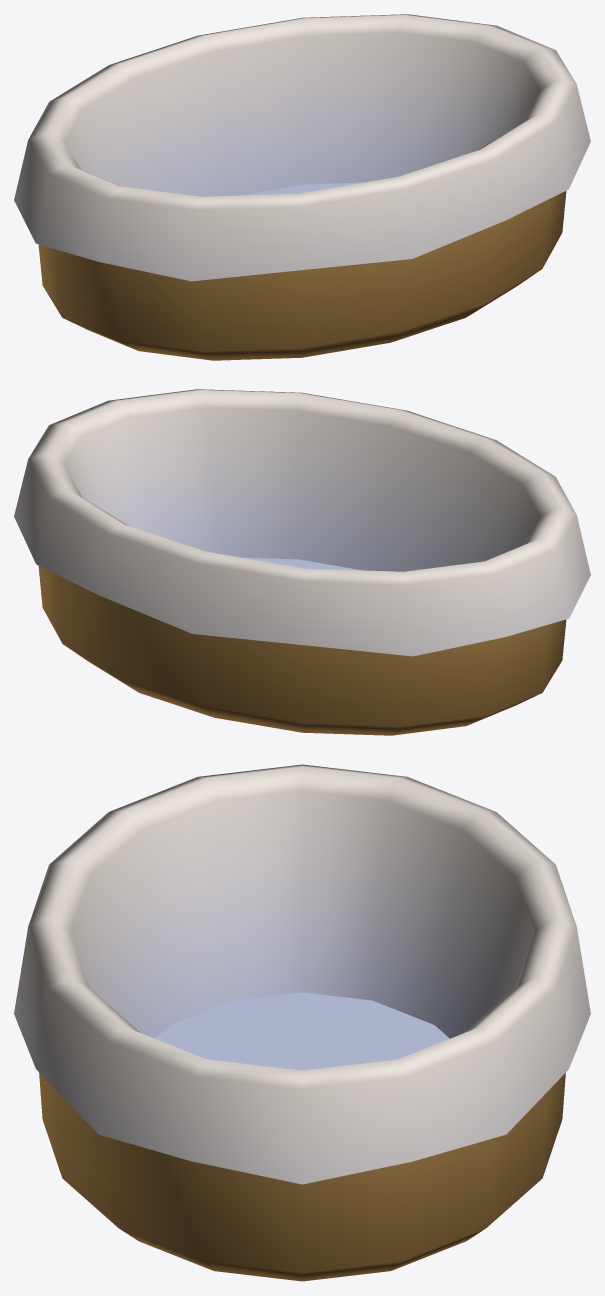
The model's file is MarketStand_BreadBasket.fbx.
The picture shows the model from 3 angles, top to bottom: view 1: azimuth 30°, elevation 25°; view 2: azimuth 150°, elevation 25°; view 3: azimuth 270°, elevation 25°; orthographic projection. The views are drawn at different scales.
Parts seen in each view (by area): view 1: MarketStand_BreadBasket; view 2: MarketStand_BreadBasket; view 3: MarketStand_BreadBasket.
Boxes of the visible parts, x1=… form: MarketStand_BreadBasket: x1=14, y1=14, x2=590, y2=360; MarketStand_BreadBasket: x1=14, y1=389, x2=590, y2=735; MarketStand_BreadBasket: x1=14, y1=764, x2=590, y2=1281.
Bounding box in the file's own units: 97.18 × 29.96 × 69.41.
Materials: 1 (1 with a texture image).
